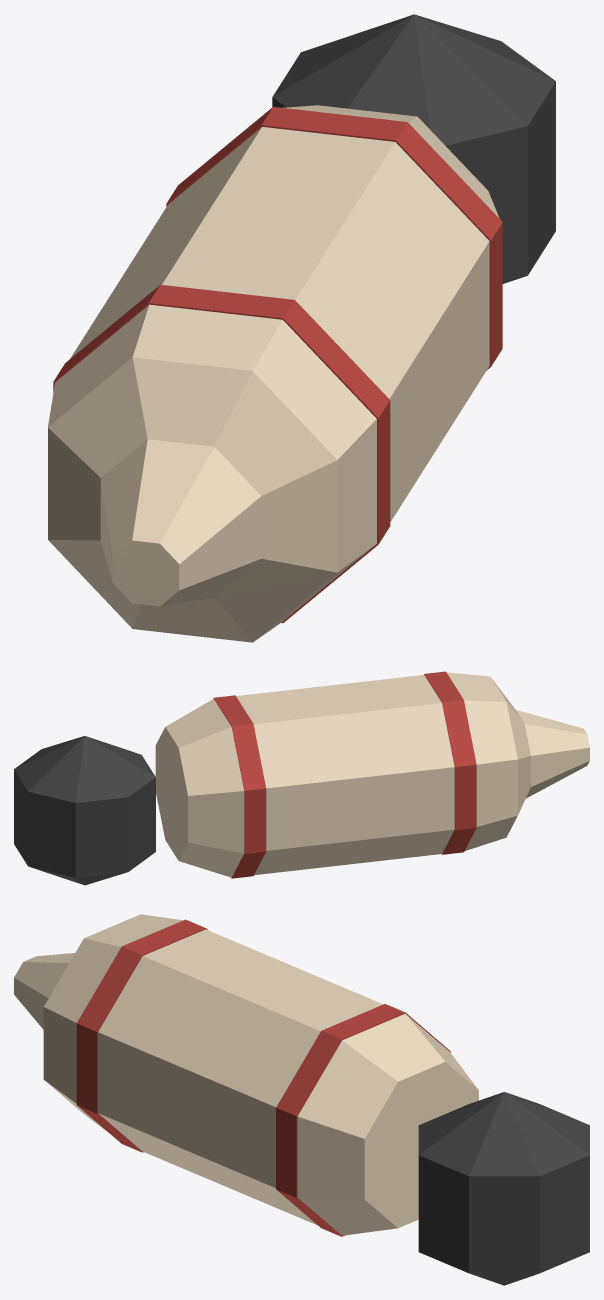
The model's file is ce_ammo2_powder_burst_a.obj.
3 renders of one model, top to bottom at view 1: azimuth 30°, elevation 25°; view 2: azimuth 150°, elevation 25°; view 3: azimuth 270°, elevation 25°, orthographic. The views are drawn at different scales.
Parts seen in each view (by area): view 1: ce_ammo2_powder_burst_a_4, ce_ammo2_powder_burst_a_1, ce_ammo2_powder_burst_a_7, ce_ammo2_powder_burst_a_2, ce_ammo2_powder_burst_a_0, ce_ammo2_powder_burst_a_3, ce_ammo2_powder_burst_a_5, ce_ammo2_powder_burst_a_6; view 2: ce_ammo2_powder_burst_a_4, ce_ammo2_powder_burst_a_7, ce_ammo2_powder_burst_a_6, ce_ammo2_powder_burst_a_2, ce_ammo2_powder_burst_a_5, ce_ammo2_powder_burst_a_3, ce_ammo2_powder_burst_a_0, ce_ammo2_powder_burst_a_1; view 3: ce_ammo2_powder_burst_a_4, ce_ammo2_powder_burst_a_7, ce_ammo2_powder_burst_a_6, ce_ammo2_powder_burst_a_2, ce_ammo2_powder_burst_a_5, ce_ammo2_powder_burst_a_3, ce_ammo2_powder_burst_a_0.
Boxes of the visible parts, bbox=[...] form: ce_ammo2_powder_burst_a_4: bbox=[70, 127, 489, 521]; ce_ammo2_powder_burst_a_1: bbox=[48, 357, 337, 642]; ce_ammo2_powder_burst_a_7: bbox=[272, 14, 555, 283]; ce_ammo2_powder_burst_a_2: bbox=[48, 304, 376, 641]; ce_ammo2_powder_burst_a_0: bbox=[100, 439, 261, 606]; ce_ammo2_powder_burst_a_3: bbox=[53, 284, 390, 623]; ce_ammo2_powder_burst_a_5: bbox=[166, 107, 502, 369]; ce_ammo2_powder_burst_a_6: bbox=[282, 105, 499, 218]; ce_ammo2_powder_burst_a_4: bbox=[236, 675, 454, 875]; ce_ammo2_powder_burst_a_7: bbox=[14, 736, 155, 885]; ce_ammo2_powder_burst_a_6: bbox=[155, 699, 244, 877]; ce_ammo2_powder_burst_a_2: bbox=[446, 672, 517, 850]; ce_ammo2_powder_burst_a_5: bbox=[213, 695, 266, 878]; ce_ammo2_powder_burst_a_3: bbox=[424, 671, 476, 854]; ce_ammo2_powder_burst_a_0: bbox=[516, 710, 589, 798]; ce_ammo2_powder_burst_a_1: bbox=[491, 677, 530, 814]; ce_ammo2_powder_burst_a_4: bbox=[98, 929, 382, 1225]; ce_ammo2_powder_burst_a_7: bbox=[418, 1092, 589, 1285]; ce_ammo2_powder_burst_a_6: bbox=[297, 1013, 478, 1235]; ce_ammo2_powder_burst_a_2: bbox=[43, 914, 182, 1131]; ce_ammo2_powder_burst_a_5: bbox=[276, 1004, 450, 1236]; ce_ammo2_powder_burst_a_3: bbox=[76, 919, 208, 1152]; ce_ammo2_powder_burst_a_0: bbox=[14, 953, 74, 1029].
Size of the model in its own units: 0.5922 by 0.232 by 0.5922.
